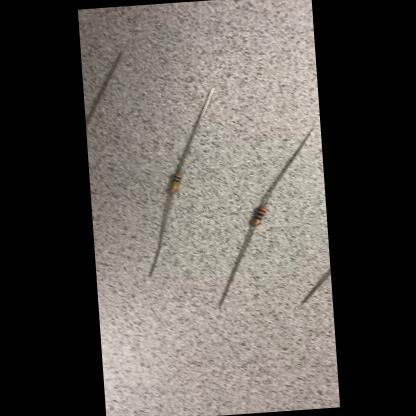resistor: (251, 204, 266, 226), (168, 171, 180, 192)
wire: (258, 129, 318, 204), (170, 86, 219, 172), (213, 225, 261, 305), (80, 51, 126, 130), (142, 192, 178, 275), (298, 268, 331, 302)
